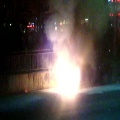fire: (52, 50, 80, 100)
